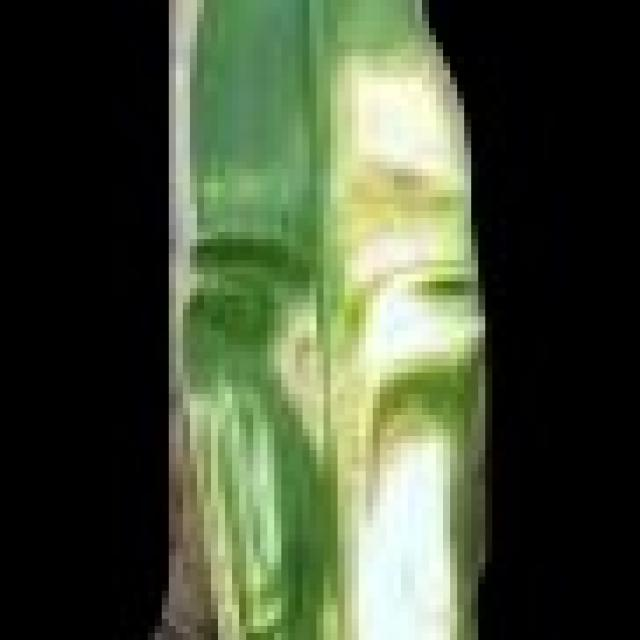mite: (176, 0, 338, 633), (176, 225, 302, 345), (190, 162, 288, 232), (190, 274, 274, 345), (183, 225, 288, 267), (232, 612, 295, 633)
